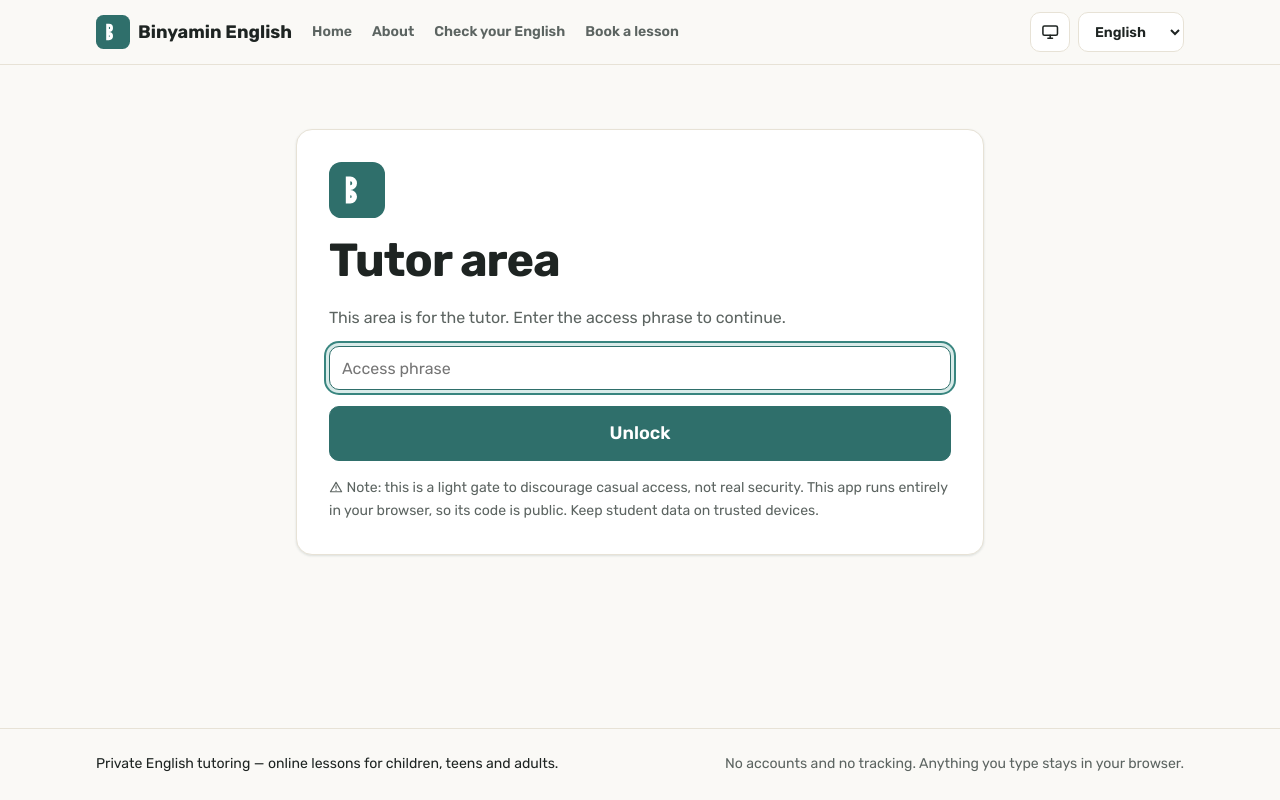
Test case: tutor gate › blocks the tutor area until the correct phrase is entered
The image size is (1280, 800).
Expected: the heading "Tutor area" is shown, [329,233,560,288]
Type "wrong-phrase" into the password field with placeholder "Access phrase" at (640, 368), box [329,346,951,390]
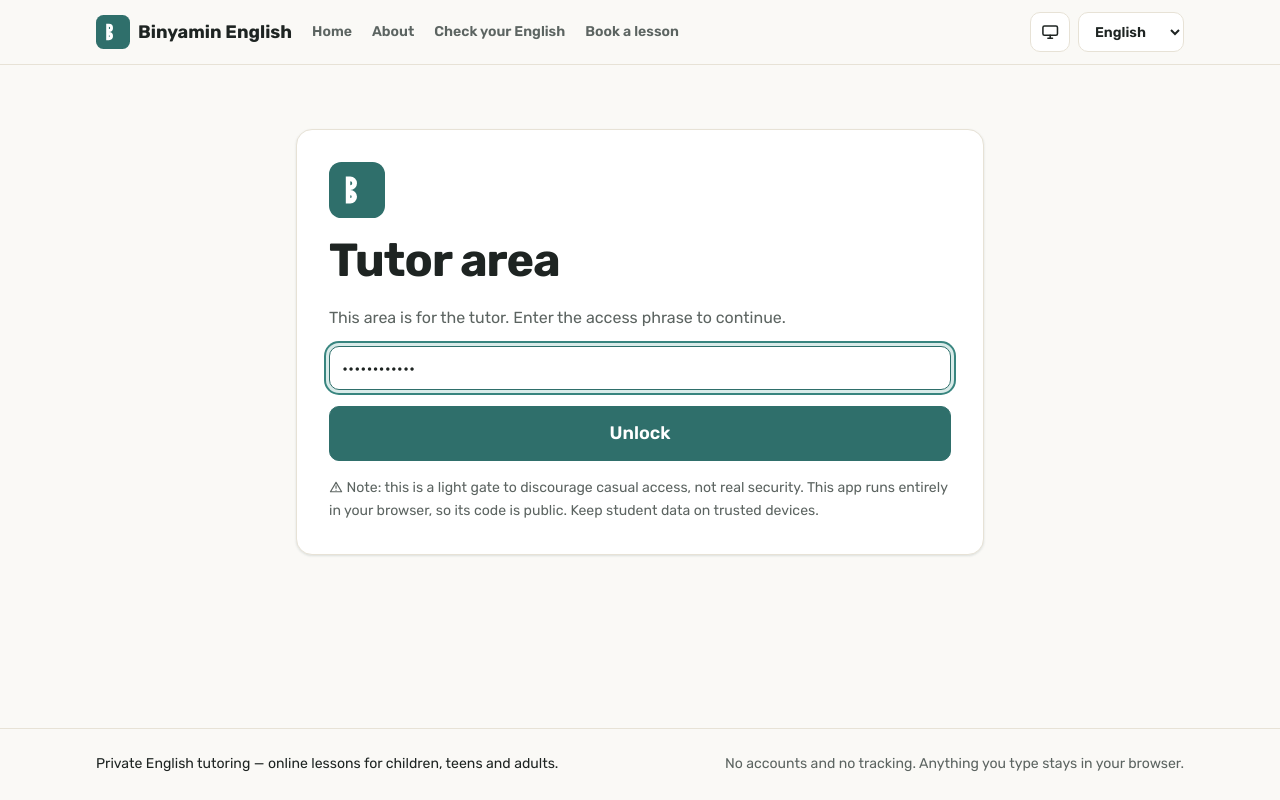
Click the button "Unlock" at (640, 434), box [329,406,951,461]
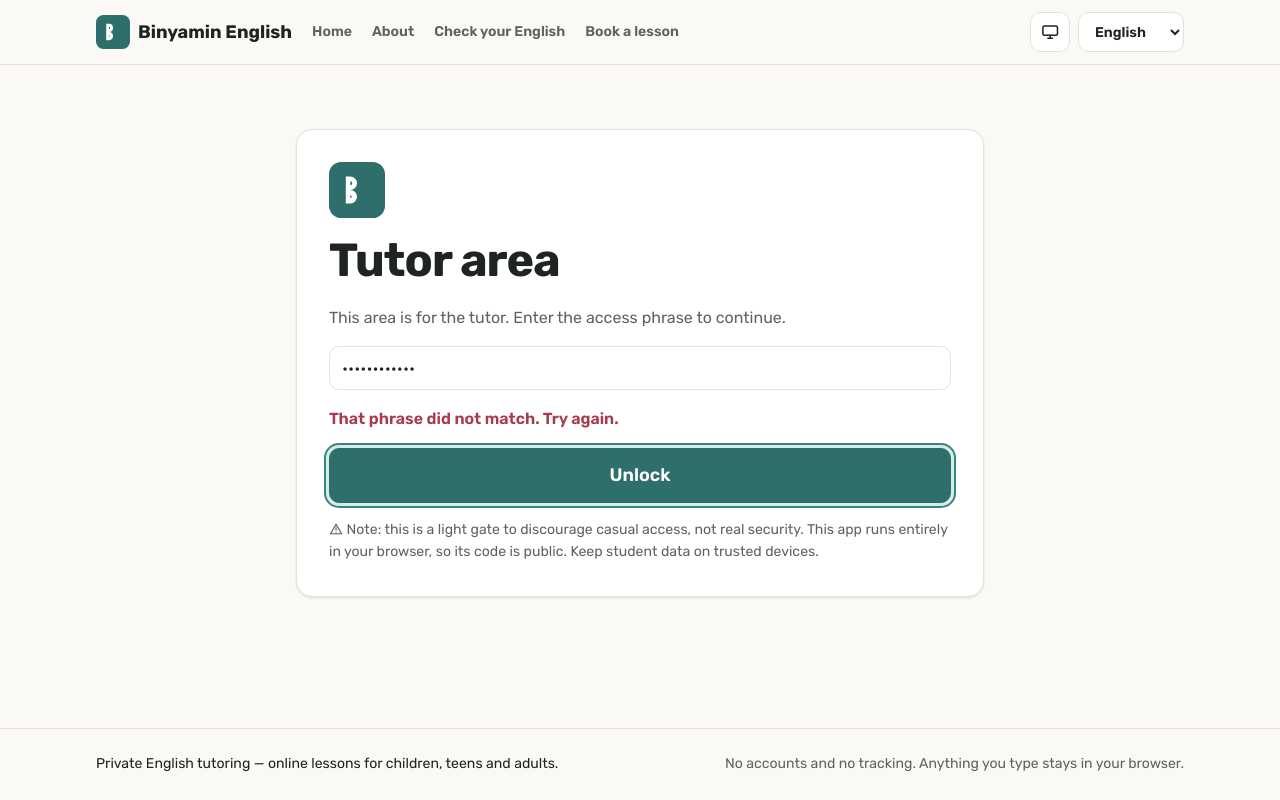
Expected: the message "That phrase did not match. Try again." is shown, [329,409,619,428]
Type "teach" into the password field with placeholder "Access phrase" at (640, 368), box [329,346,951,390]
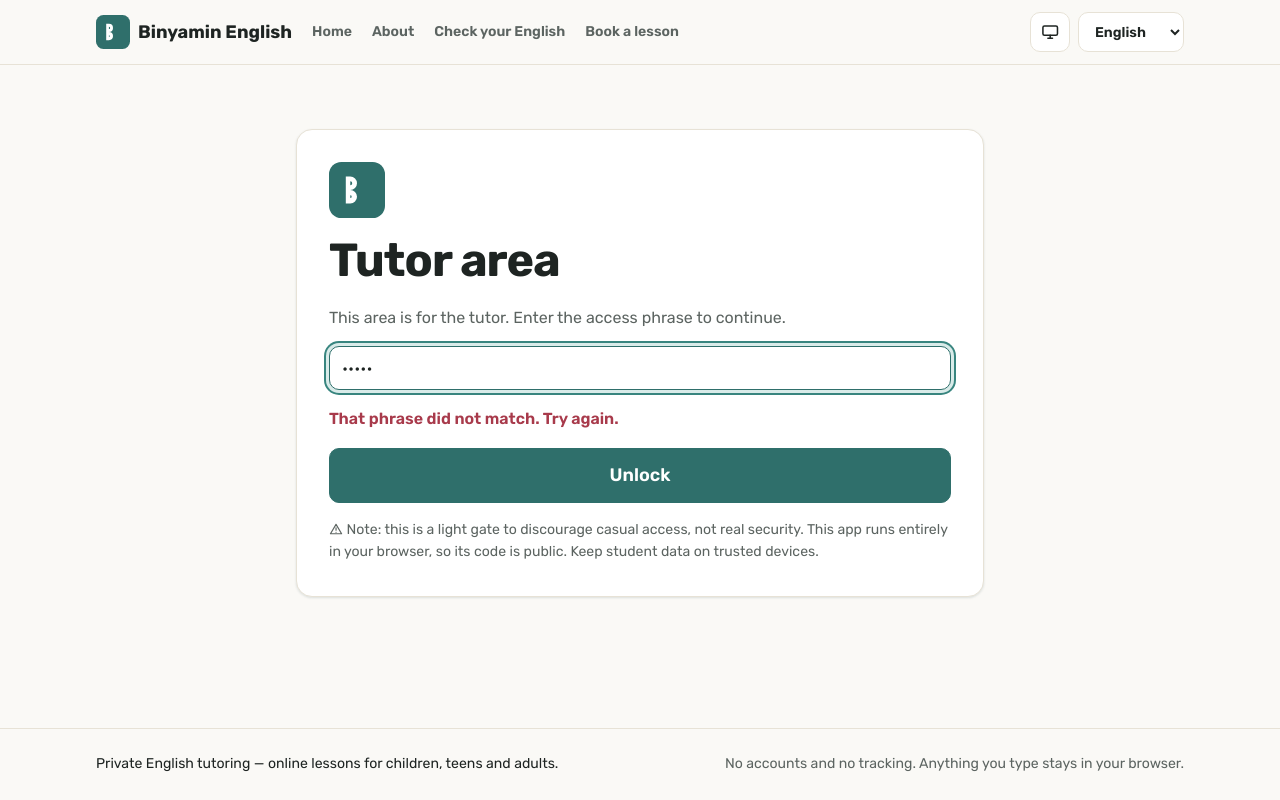
Click the button "Unlock" at (640, 475), box [329,448,951,503]
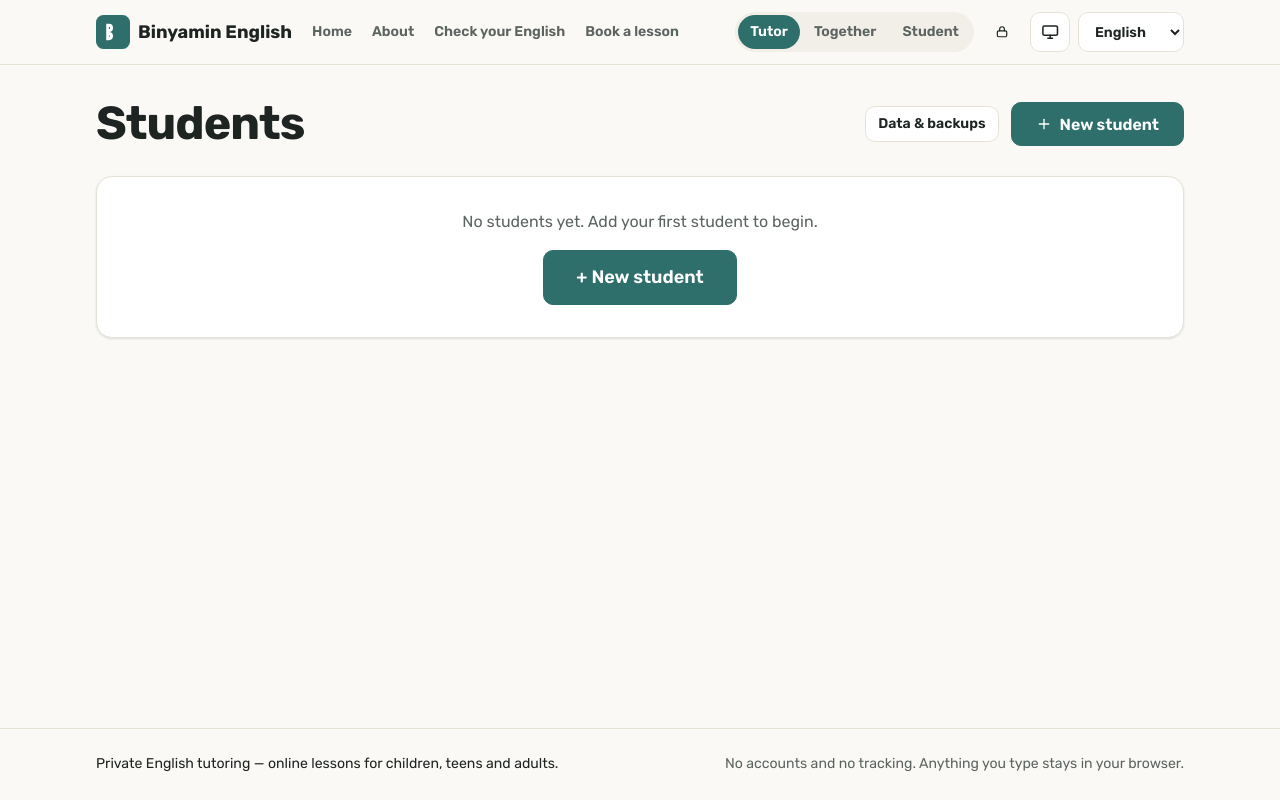
Expected: the text "No students yet. Add your first student to begin." is shown, [462,209,818,234]
